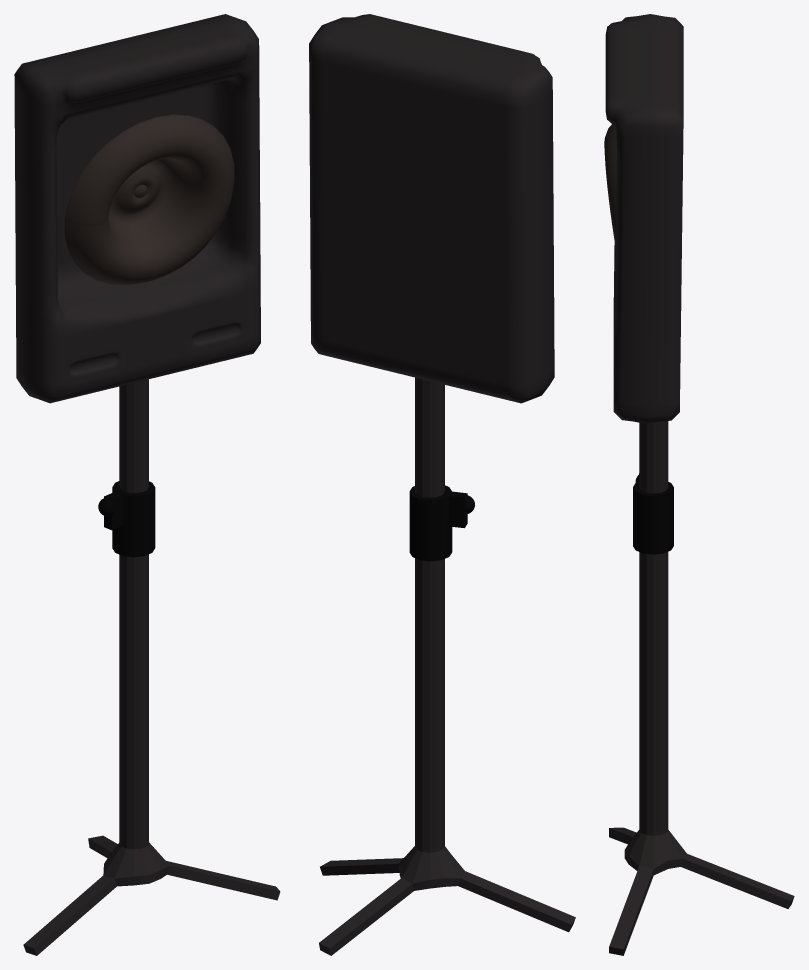
The model's file is speakerr.FBX.
The picture shows the model from 3 angles, left to right: view 1: azimuth 30°, elevation 25°; view 2: azimuth 150°, elevation 25°; view 3: azimuth 270°, elevation 25°; orthographic projection. The views are drawn at different scales.
Visible parts, largest first — view 1: Box003, Line002, Cylinder001, Cylinder002; view 2: Box003, Cylinder001, Cylinder002; view 3: Box003, Cylinder001, Cylinder002, Line002.
Part boxes in pixels (<box>): Box003: <box>14,14,260,403</box>; Line002: <box>64,114,234,284</box>; Cylinder001: <box>23,379,280,955</box>; Cylinder002: <box>104,481,155,557</box>; Box003: <box>309,14,554,403</box>; Cylinder001: <box>319,377,575,955</box>; Cylinder002: <box>409,485,467,561</box>; Box003: <box>605,14,683,423</box>; Cylinder001: <box>609,421,794,955</box>; Cylinder002: <box>633,473,673,554</box>; Line002: <box>604,124,616,245</box>.
Size of the model in its own units: 49.31 by 162 by 33.43.
Materials: 4 (4 with a texture image).
